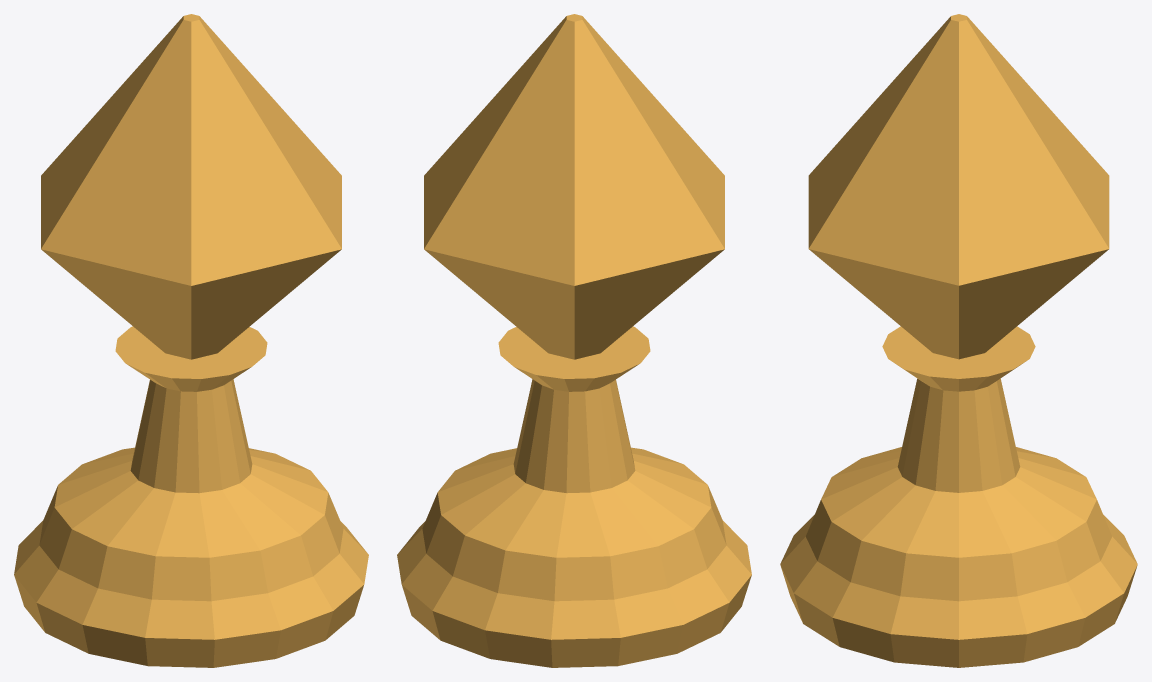
The model's file is trophy2.glb.
3 views of the same model, side by side, from view 1: azimuth 30°, elevation 25°; view 2: azimuth 150°, elevation 25°; view 3: azimuth 270°, elevation 25° (orthographic).
Visible parts, largest first — view 1: Trophy2; view 2: Trophy2; view 3: Trophy2.
Boxes of the visible parts, <box> form: Trophy2: <box>14,14,368,667</box>; Trophy2: <box>397,14,751,667</box>; Trophy2: <box>780,14,1137,667</box>.
Bounding box in the file's own units: 0.7 × 1.25 × 0.7.
